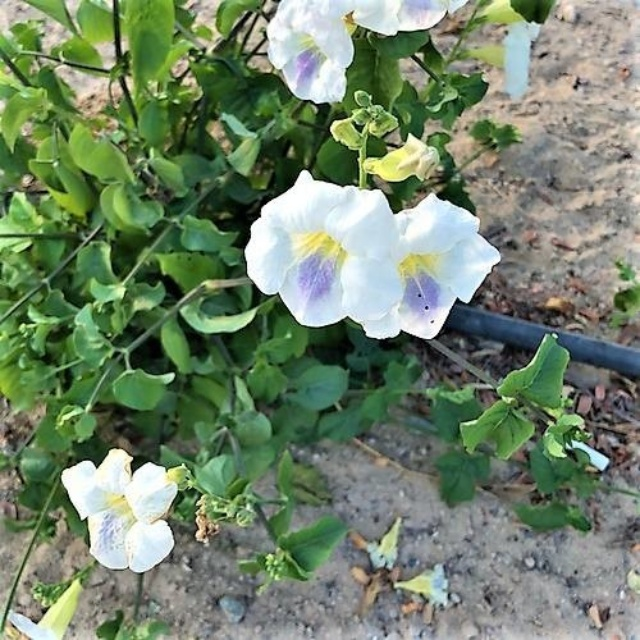obstacle: (55, 74, 509, 584)
